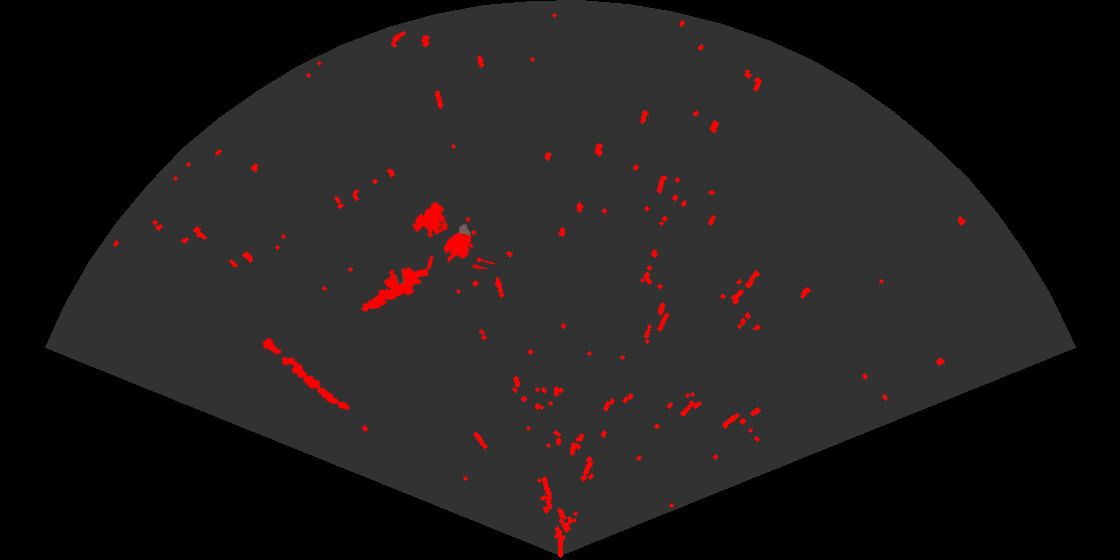cage: (411, 200, 495, 269)
chain: (261, 336, 352, 412)
frogman: (360, 266, 428, 313)
